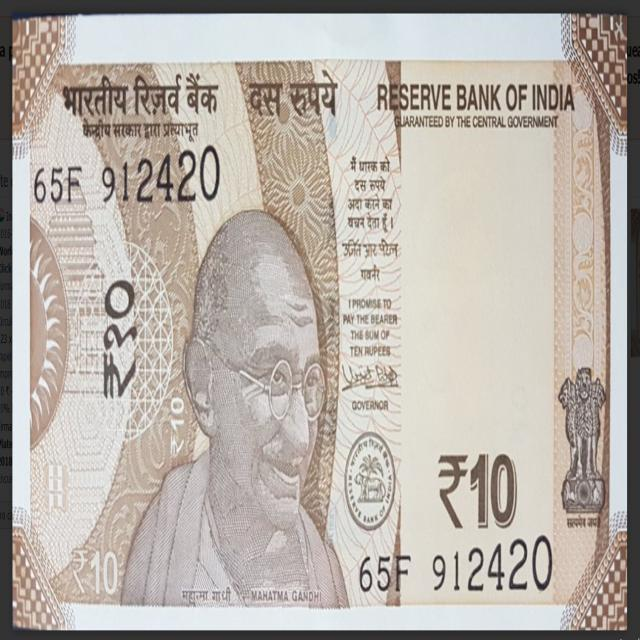10IndianRupees: (15, 18, 628, 630), (225, 20, 626, 628), (14, 22, 402, 628)
